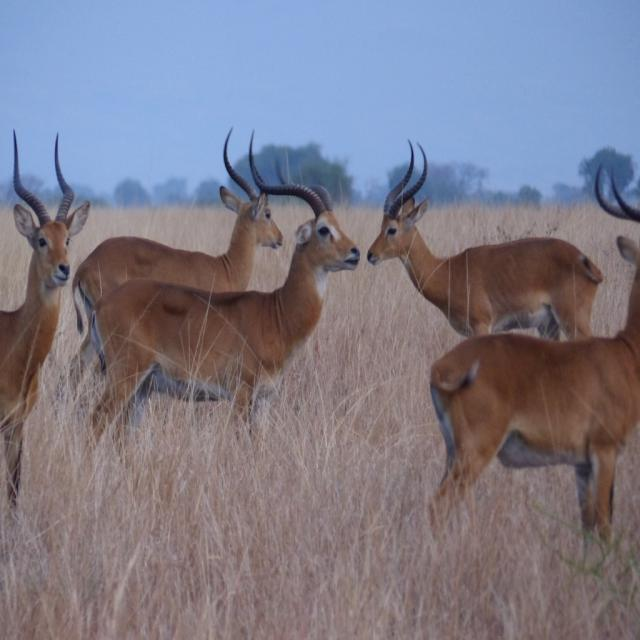Deer: (76, 140, 360, 490), (429, 163, 639, 556), (58, 129, 285, 408), (368, 138, 604, 341), (0, 129, 89, 522)
